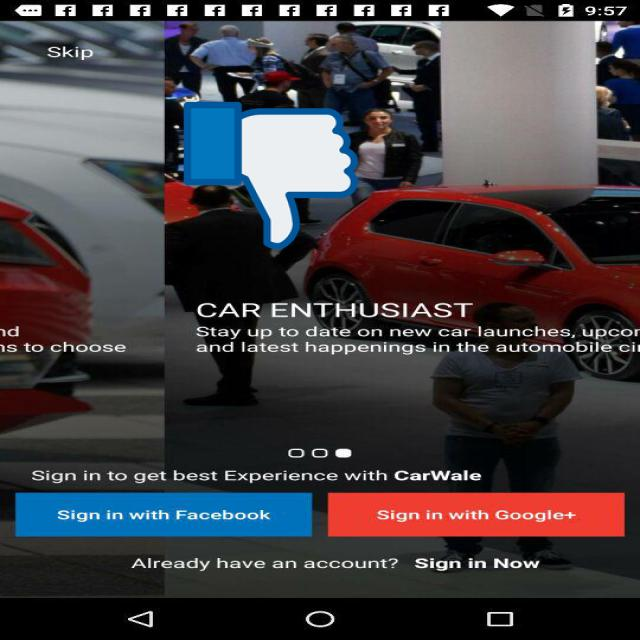obstruction: (184, 99, 358, 252)
